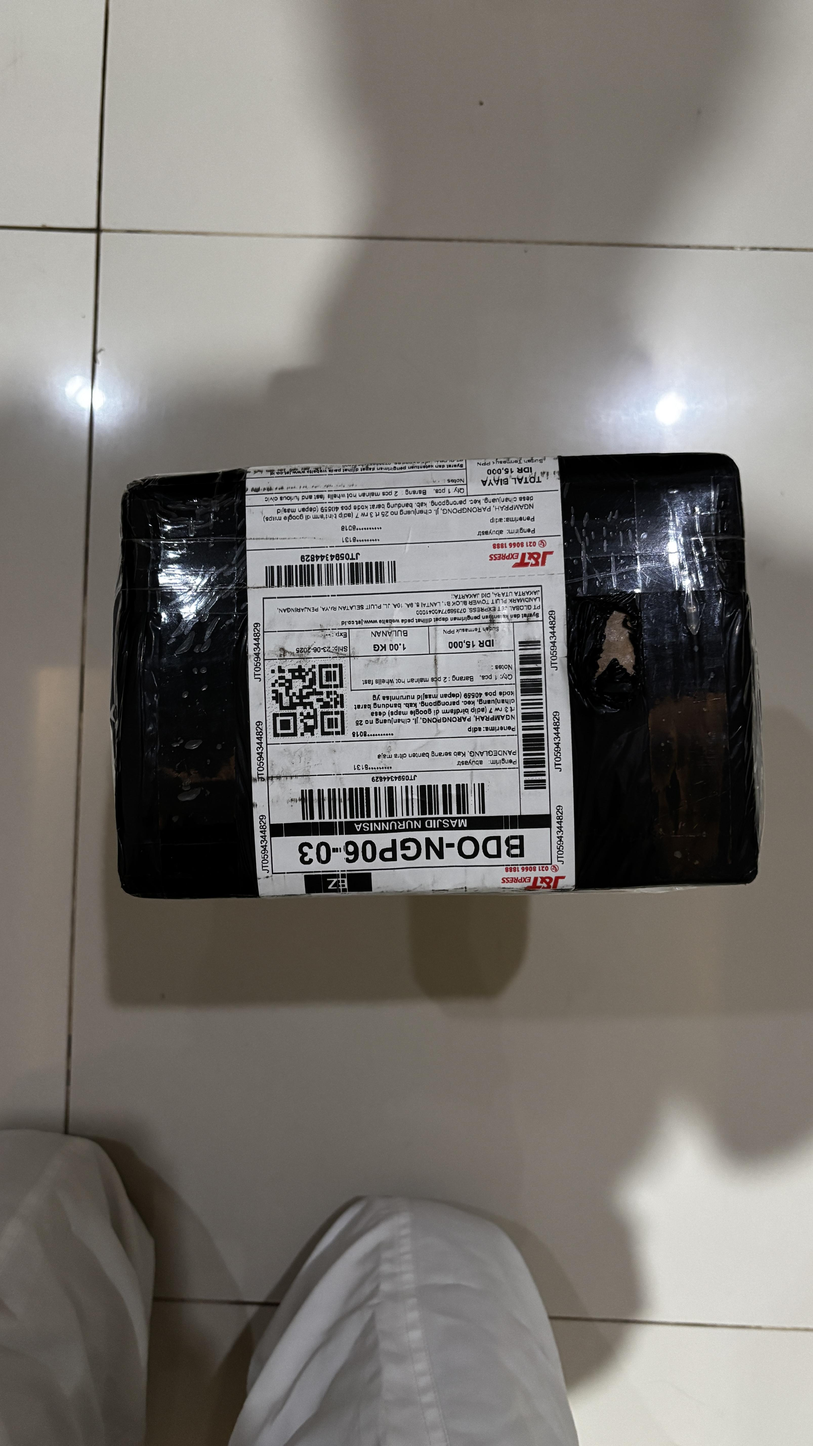damaged package: (581, 586, 657, 703)
undamaged: (98, 441, 765, 913)
